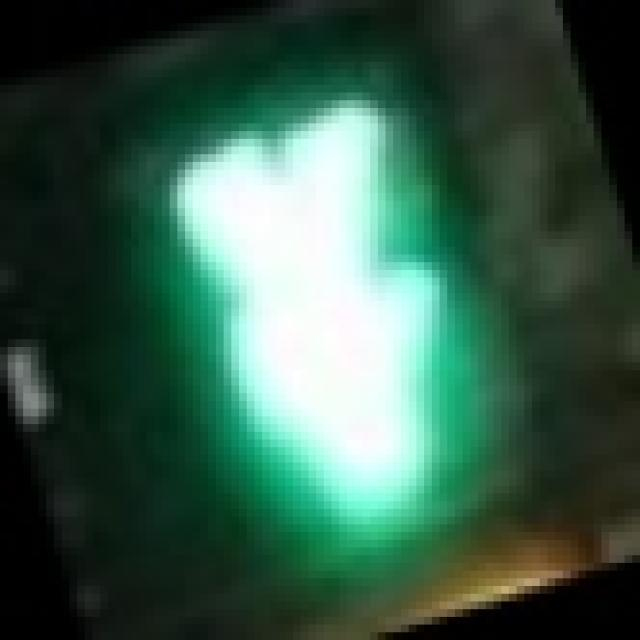geen-crossing: (131, 70, 494, 556)
